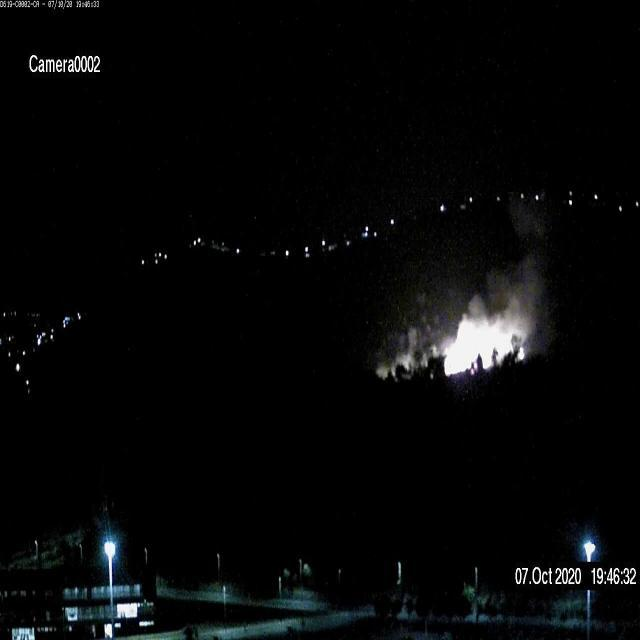Fire: (444, 312, 518, 380)
Smoke: (374, 250, 554, 380)
